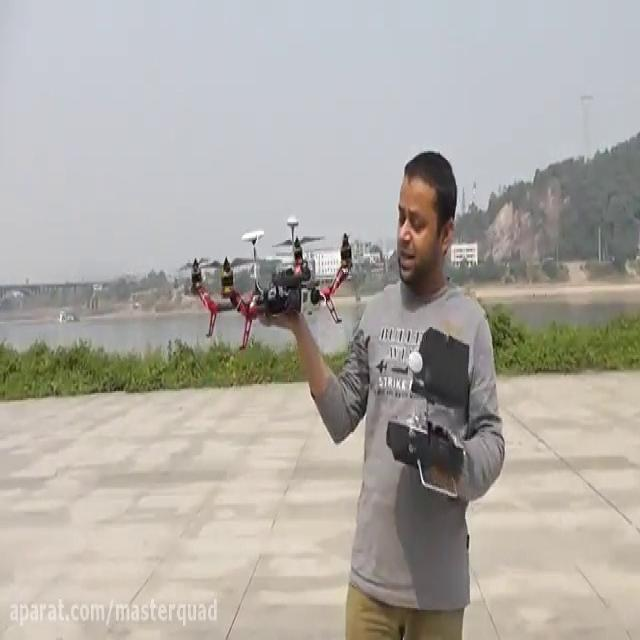drone: (180, 208, 357, 352)
